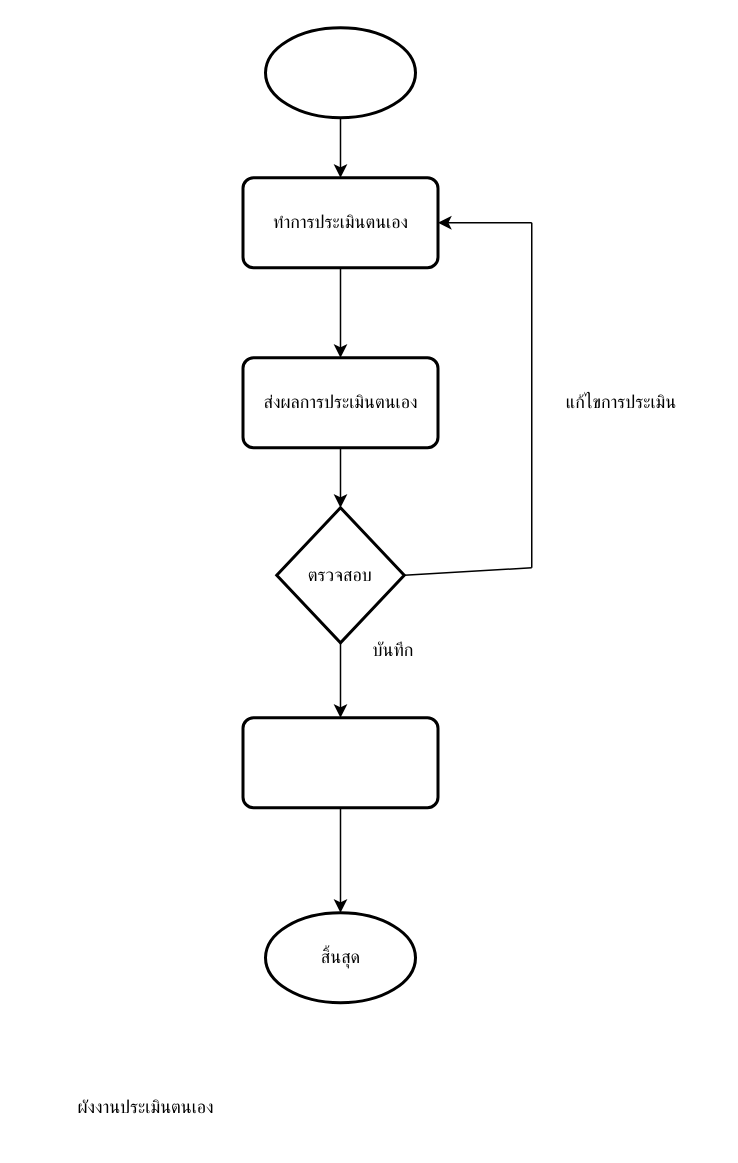
Image size: 738x1163. Some labels were removed from this diagram. Here are the shapes that lost their labels. From the top down, the centre of each, then its label:
At point (339, 72): "เริ่มต้น".
At point (340, 762): "บันทึกผลการประเมิน".
